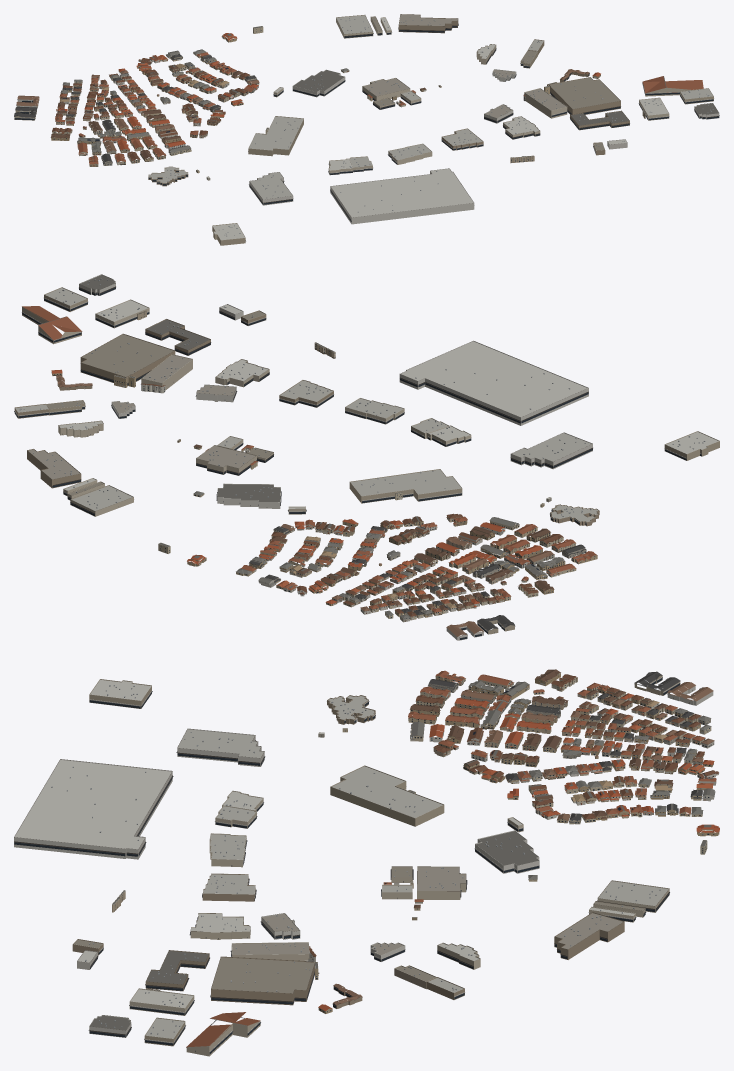
3 views of the same model, one above another, from view 1: azimuth 30°, elevation 25°; view 2: azimuth 150°, elevation 25°; view 3: azimuth 270°, elevation 25° (orthographic). The views are drawn at different scales.
Parts seen in each view (by area): view 1: buildings_r3_c5_lod0; view 2: buildings_r3_c5_lod0; view 3: buildings_r3_c5_lod0.
Part boxes in pixels (<box>): buildings_r3_c5_lod0: <box>14,14,719,245</box>; buildings_r3_c5_lod0: <box>14,274,719,640</box>; buildings_r3_c5_lod0: <box>14,669,719,1056</box>.
Size of the model in its own units: 1181 by 43.4 by 894.
